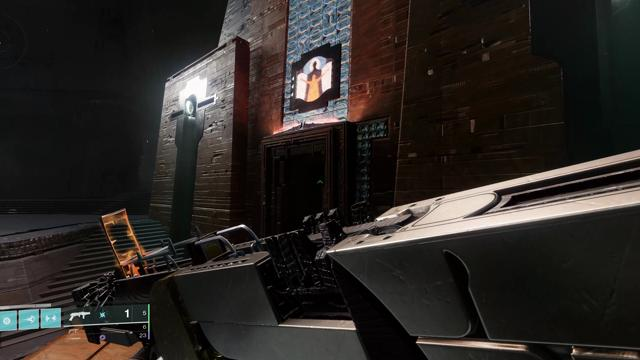worship: (296, 56, 332, 102)
